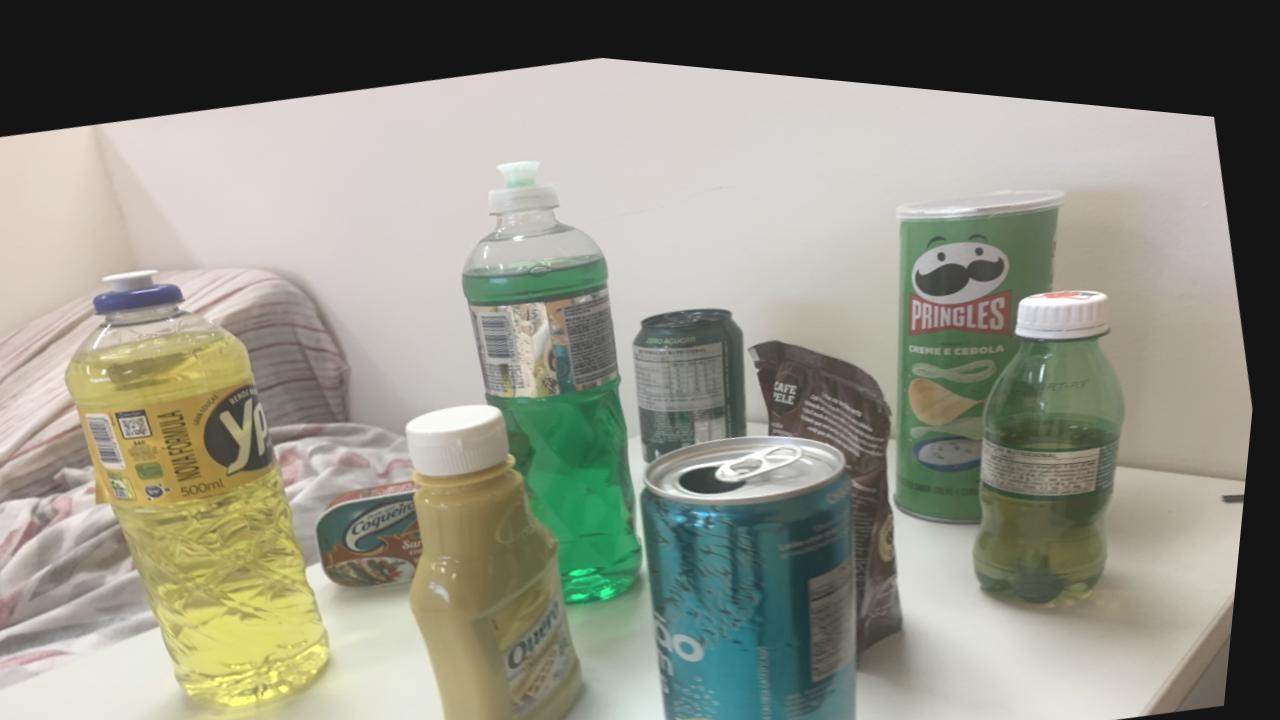Coffee-Pantry_Items: (753, 324, 913, 632)
Detergent-Cleanup_Items: (72, 268, 341, 699), (466, 149, 652, 590)
Guarana-Drinks: (982, 268, 1131, 581)
Guarana_Can-Drinks: (638, 293, 753, 448)
Mustard-Pantry_Items: (414, 393, 594, 720)
Pringles-Snacks: (899, 168, 1064, 502)
Tea-Drinks: (649, 419, 868, 720)
Tuna_Can-Pantry_Items: (325, 471, 432, 579)
